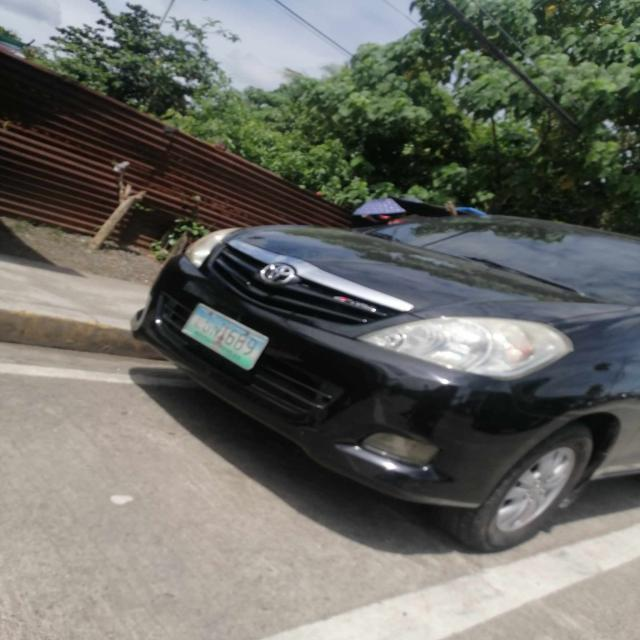license-plate: (179, 301, 271, 373)
